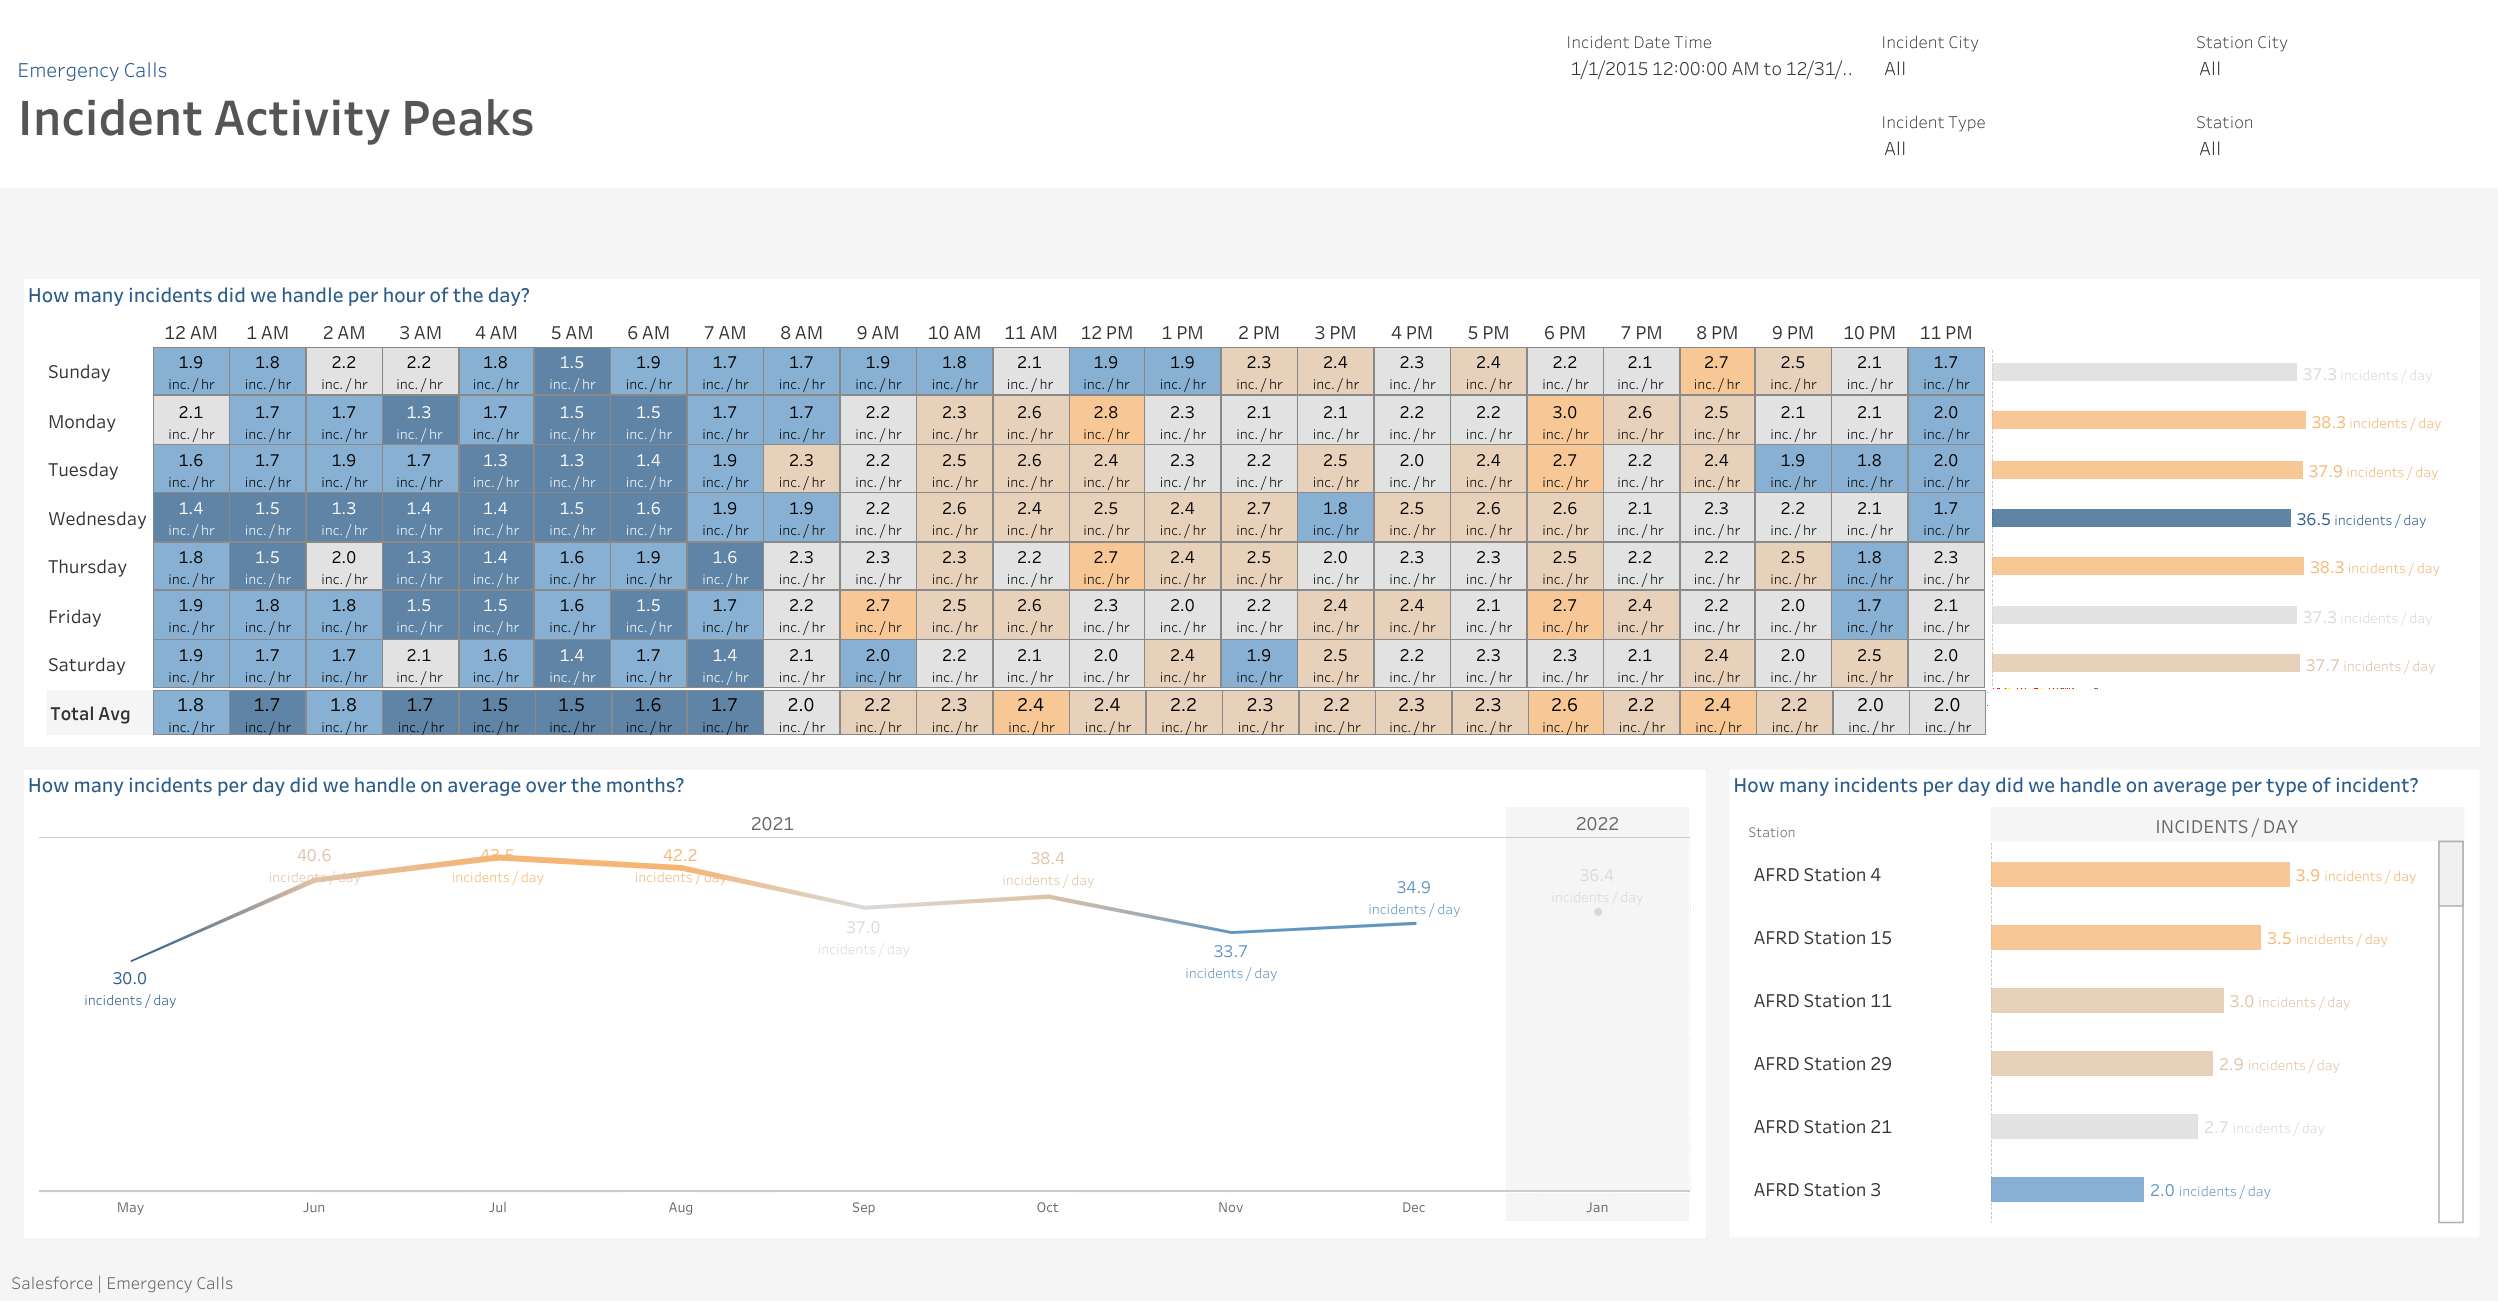

The page's visual inventory and layout, read from the dashboard file:
{"tool":"tableau","page":{"name":"Activity Peaks","canvas":[1666,868],"ordinal":0},"visuals":[{"type":"title","box":[0,0,1666,125]},{"type":"filter","title":"Incident Avg Hourly - Seasonality","param":"[federated.0310euv0frhuil1h4p3ir1t0l0ah].[none:Incident Date Time:qk]","box":[1044,18,197,47]},{"type":"filter","title":"Incident Avg Daily - Line Chart over months","param":"[federated.0310euv0frhuil1h4p3ir1t0l0ah].[none:Incident City:nk]","box":[1254,18,197,47]},{"type":"filter","title":"Incident Avg Daily - Line Chart over months","param":"[federated.0310euv0frhuil1h4p3ir1t0l0ah].[none:Station City:nk]","box":[1464,18,197,47]},{"type":"filter","title":"Incident Avg Daily - Line Chart over months","param":"[federated.0310euv0frhuil1h4p3ir1t0l0ah].[none:Incident Type:nk]","box":[1254,71,197,47]},{"type":"filter","title":"Incident Avg Daily - Line Chart over months","param":"[federated.0310euv0frhuil1h4p3ir1t0l0ah].[none:Station:nk]","box":[1464,71,197,47]},{"type":"text","box":[0,125,1666,743]},{"type":"text","box":[16,186,1637,312]},{"type":"worksheet","title":"Incident Avg Hourly - Seasonality","mark":"Square","rows":["Incident Date Time"],"cols":["Incident Date Time"],"box":[26,211,1297,247]},{"type":"worksheet","title":"Incident Avg Daily - Seasonality","mark":"Bar","rows":["Incident Date Time"],"cols":["Calculation_1362057452633001986"],"box":[1328,232,315,226]},{"type":"text","box":[31,460,75,30]},{"type":"worksheet","title":"Incident Avg Total Hourly - Seasonality","mark":"Square","cols":["Incident Date Time"],"box":[102,460,1222,30]},{"type":"text","box":[16,513,1121,312]},{"type":"text","box":[1153,513,500,312]},{"type":"worksheet","title":"Incident Avg Daily - Line Chart over months","mark":"Line","rows":["Calculation_1362057452633001986"],"cols":["Incident Date Time","Incident Date Time"],"box":[26,538,1101,277]},{"type":"text","box":[1163,538,164,23]},{"type":"text","box":[1327,538,316,23]},{"type":"worksheet","title":"Incident Avg Daily - Top Stations","mark":"Bar","rows":["Station"],"cols":["Calculation_1362057452633001986"],"box":[1163,561,480,254]}]}

Visuals, with their boxes in screenshot pixels (x1, y1, x2, y2), scaled from the page's 1666x868 canvas onto the 2498x1301 screenshot:
title: 0:0:2497:187
"Incident Avg Hourly - Seasonality" filter: 1565:27:1861:97
"Incident Avg Daily - Line Chart over months" filter: 1880:27:2176:97
"Incident Avg Daily - Line Chart over months" filter: 2195:27:2491:97
"Incident Avg Daily - Line Chart over months" filter: 1880:106:2176:177
"Incident Avg Daily - Line Chart over months" filter: 2195:106:2491:177
text: 0:187:2497:1300
text: 24:279:2479:746
"Incident Avg Hourly - Seasonality" worksheet (Square marks): 39:316:1984:686
"Incident Avg Daily - Seasonality" worksheet (Bar marks): 1991:348:2464:686
text: 46:689:159:734
"Incident Avg Total Hourly - Seasonality" worksheet (Square marks): 153:689:1985:734
text: 24:769:1705:1237
text: 1729:769:2479:1237
"Incident Avg Daily - Line Chart over months" worksheet (Line marks): 39:806:1690:1222
text: 1744:806:1990:841
text: 1990:806:2464:841
"Incident Avg Daily - Top Stations" worksheet (Bar marks): 1744:841:2464:1222
